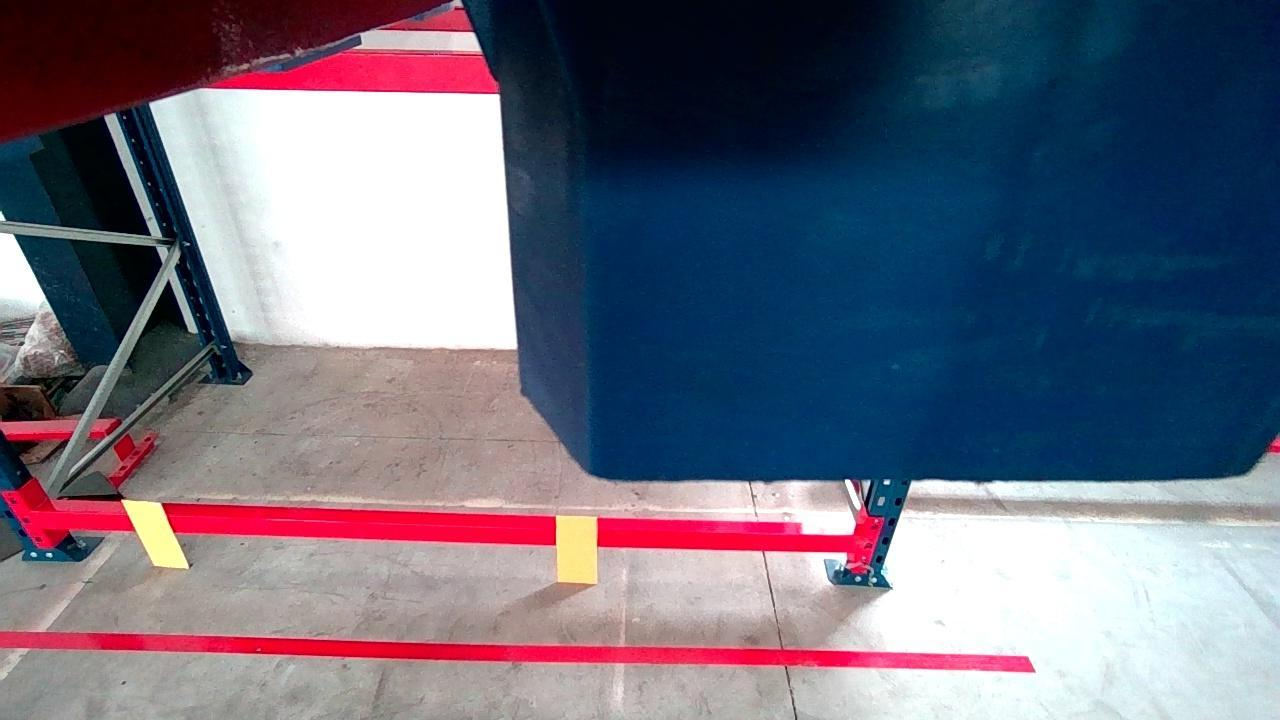h_rack: (32, 512, 851, 552)
orange_strip: (122, 501, 189, 567), (558, 515, 597, 580)
red_line: (0, 631, 1033, 670)
